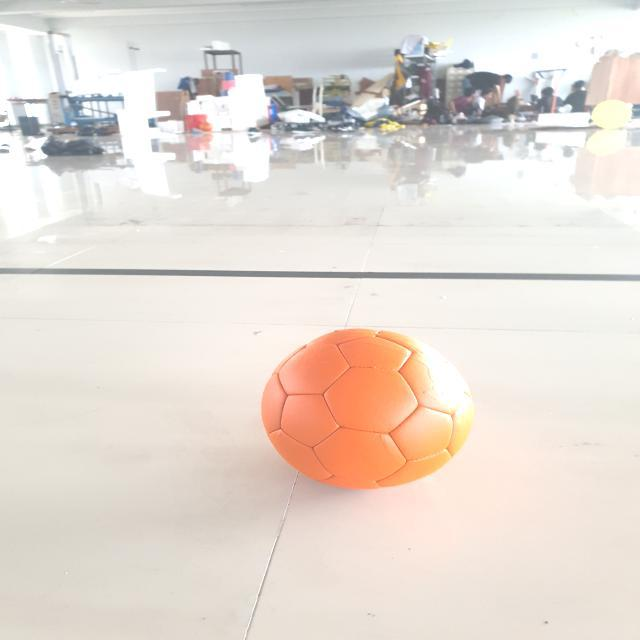bola: (262, 327, 484, 498)
